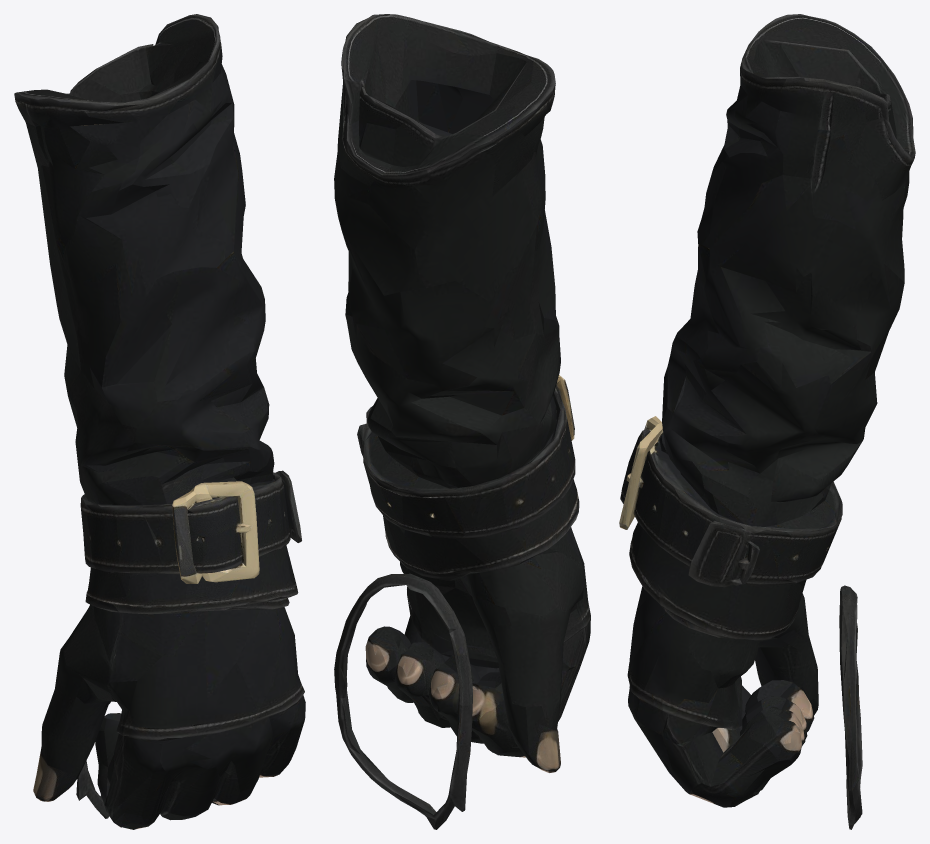
Rendered from fp_glove.glb.
3 renders of one model, left to right at view 1: azimuth 30°, elevation 25°; view 2: azimuth 150°, elevation 25°; view 3: azimuth 270°, elevation 25°, orthographic. The views are drawn at different scales.
Bounding box in the file's own units: 0.5695 × 1.91 × 0.6445.
Materials: 1 (1 with a texture image).
